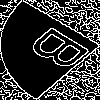B: (25, 25, 100, 80)
